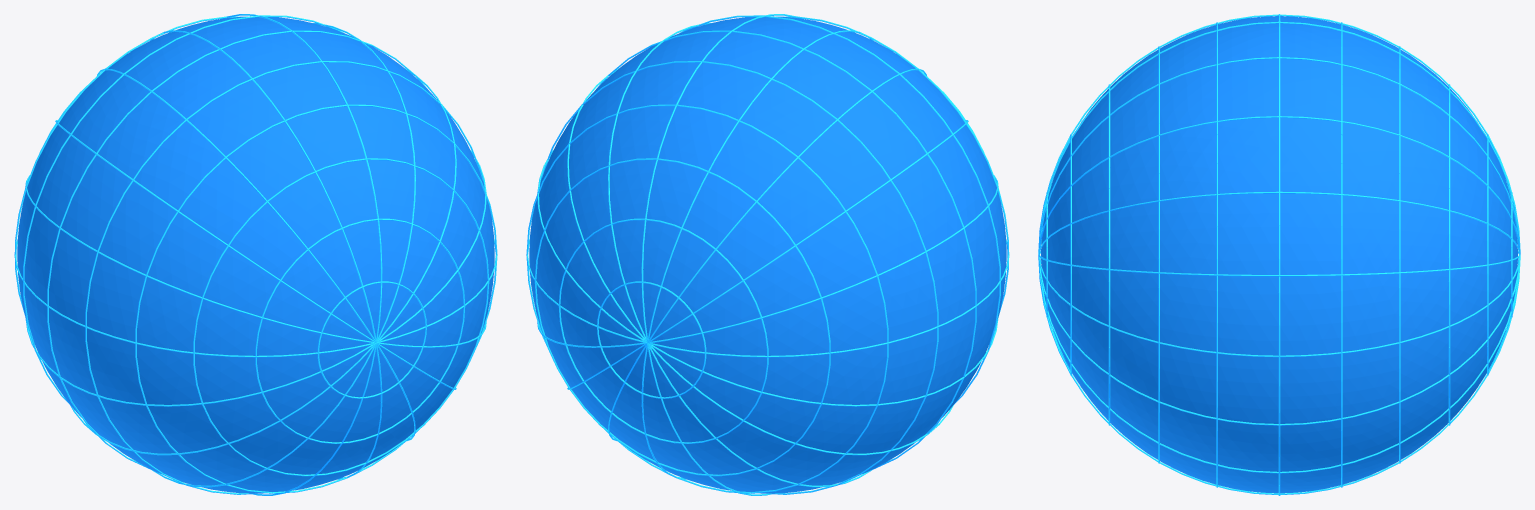
File: admire-tech-globe.glb
3 views of the same model, side by side, from view 1: azimuth 30°, elevation 25°; view 2: azimuth 150°, elevation 25°; view 3: azimuth 270°, elevation 25° (orthographic).
Parts seen in each view (by area): view 1: world; view 2: world; view 3: world.
Boxes of the visible parts, x1,y1,x2,y2 form: world: (14, 14, 497, 495); world: (526, 14, 1009, 495); world: (1038, 14, 1520, 495).
Bounding box in the file's own units: 2.02 × 2.02 × 2.02.
